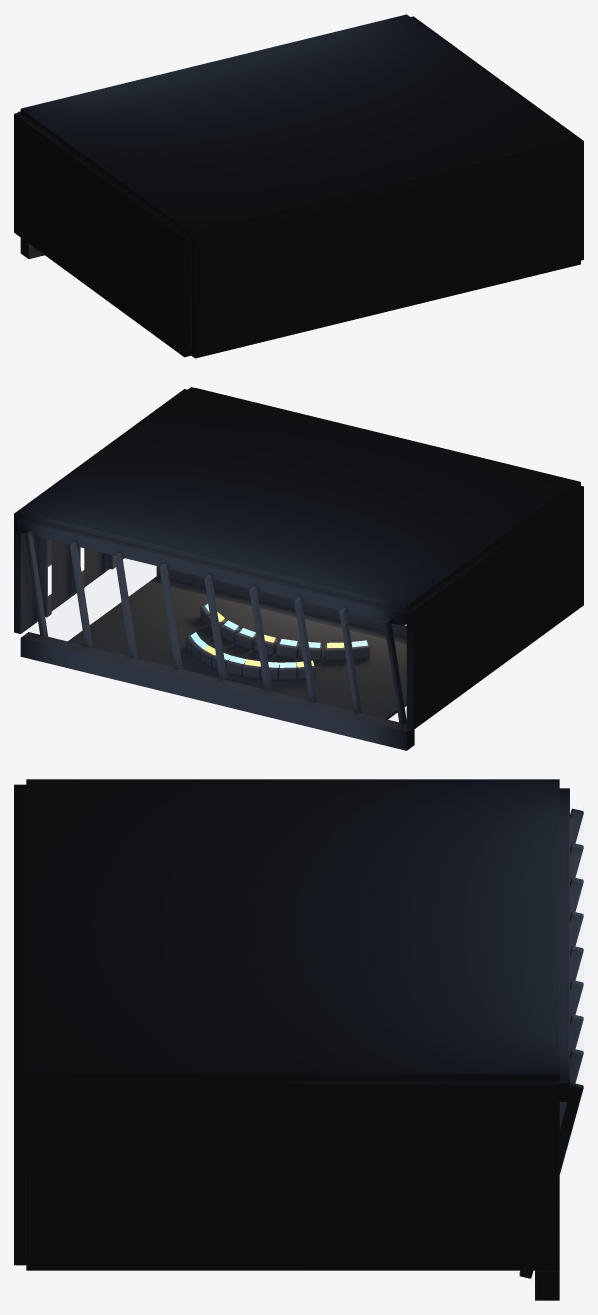
File: bridge.glb
3 renders of one model, top to bottom at view 1: azimuth 30°, elevation 25°; view 2: azimuth 150°, elevation 25°; view 3: azimuth 270°, elevation 25°, orthographic. The views are drawn at different scales.
Visible parts, largest first — view 1: BRIDGE; view 2: BRIDGE, EMISSIVE; view 3: BRIDGE.
Boxes of the visible parts, x1,y1,x2,y2 form: BRIDGE: (14,14,583,358); BRIDGE: (14,387,583,750); EMISSIVE: (48,547,406,667); BRIDGE: (14,779,583,1300).
Bounding box in the file's own units: 35.2 × 12.2 × 27.78.
6 materials, 1 textured.
